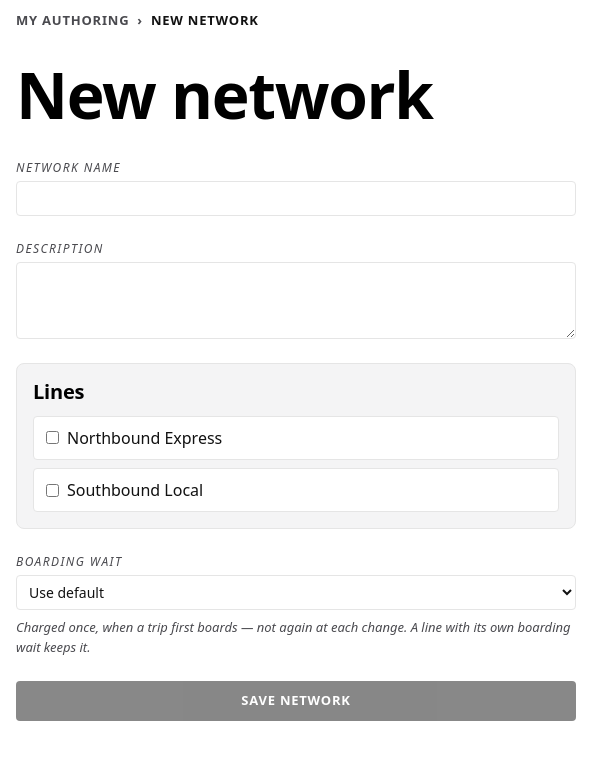
Scenario: ScenarioBuilderView › words a mid-save session expiry plainly, with no raw 401, and keeps the draft
This screenshot has width=593, height=779.
Step 1. Type "CA HSR" into the field with test id "scenario-name" → [296, 198], box [16,180,576,216]
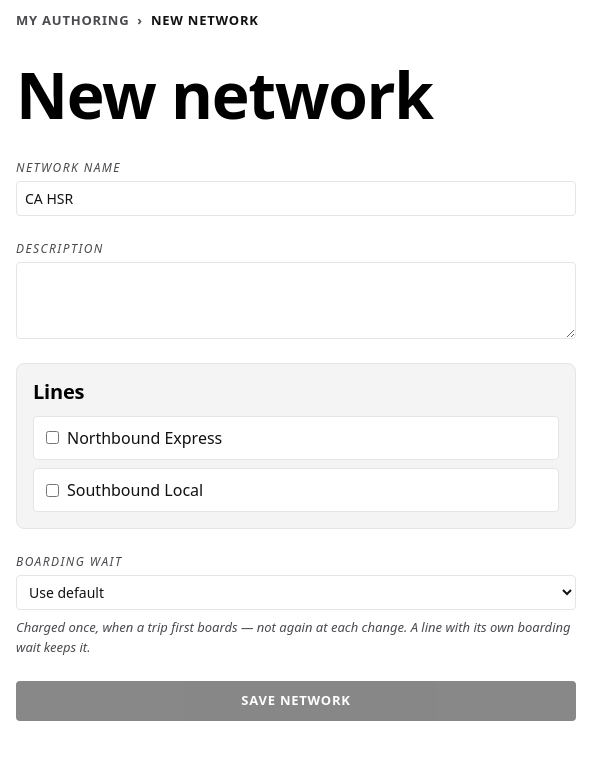
Step 2. Click the checkbox with test id "service-checkbox-svc1" → [52, 438], box [46,431,59,444]
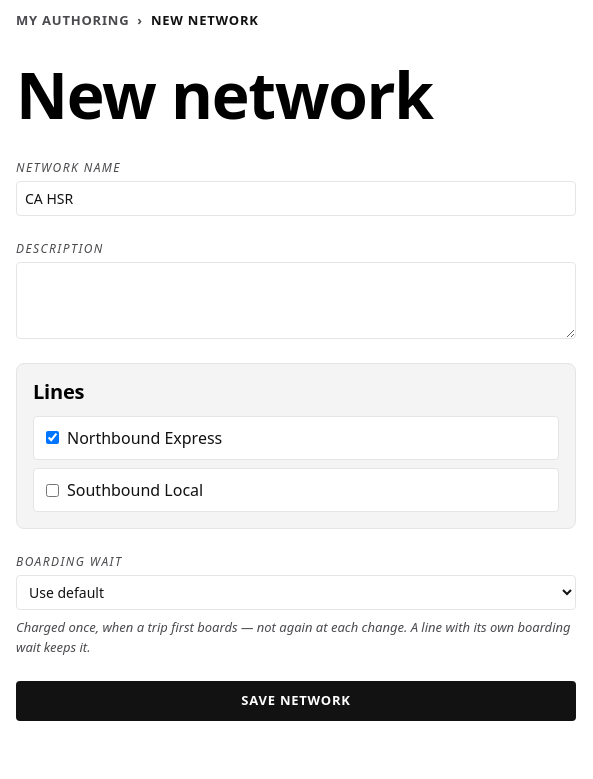
Step 3. Click the checkbox with test id "service-checkbox-svc2" → [52, 490], box [46,484,59,497]
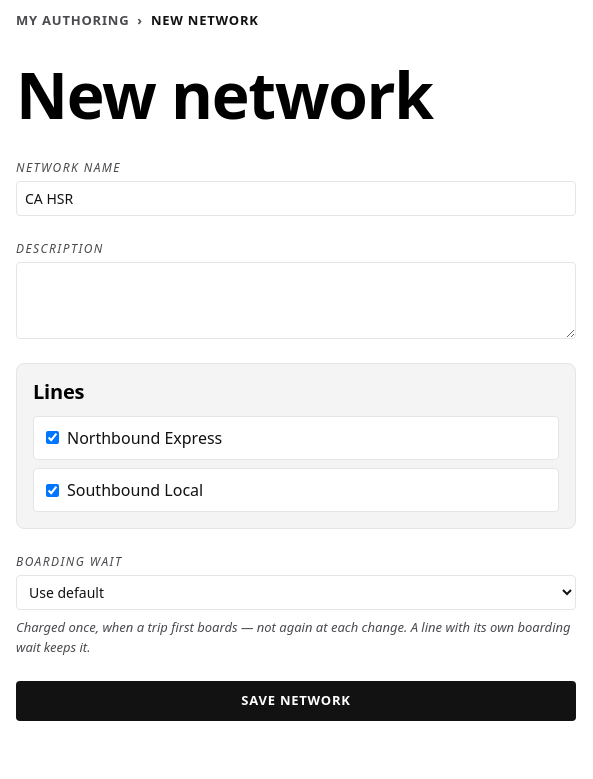
Step 4. Submit the form
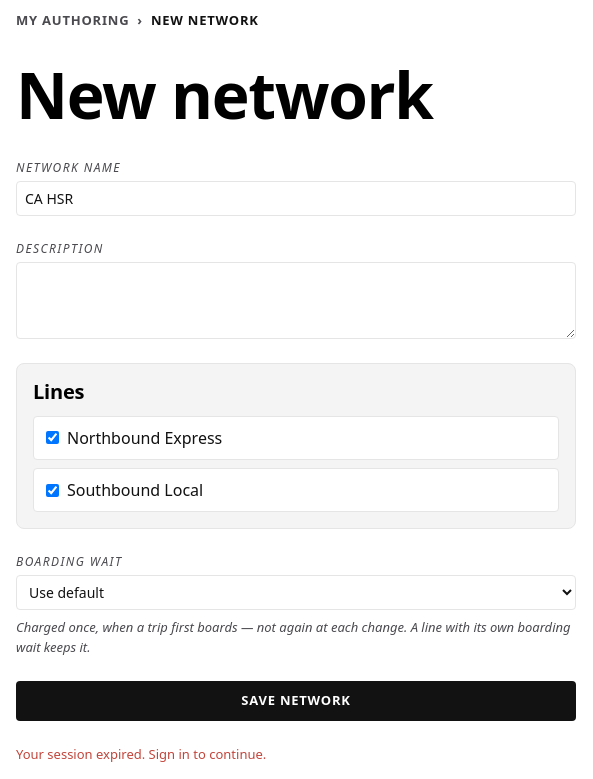
Expected: the message with test id "submit-error" reads "Your session expired. Sign in to continue.", [16,745,266,763]
